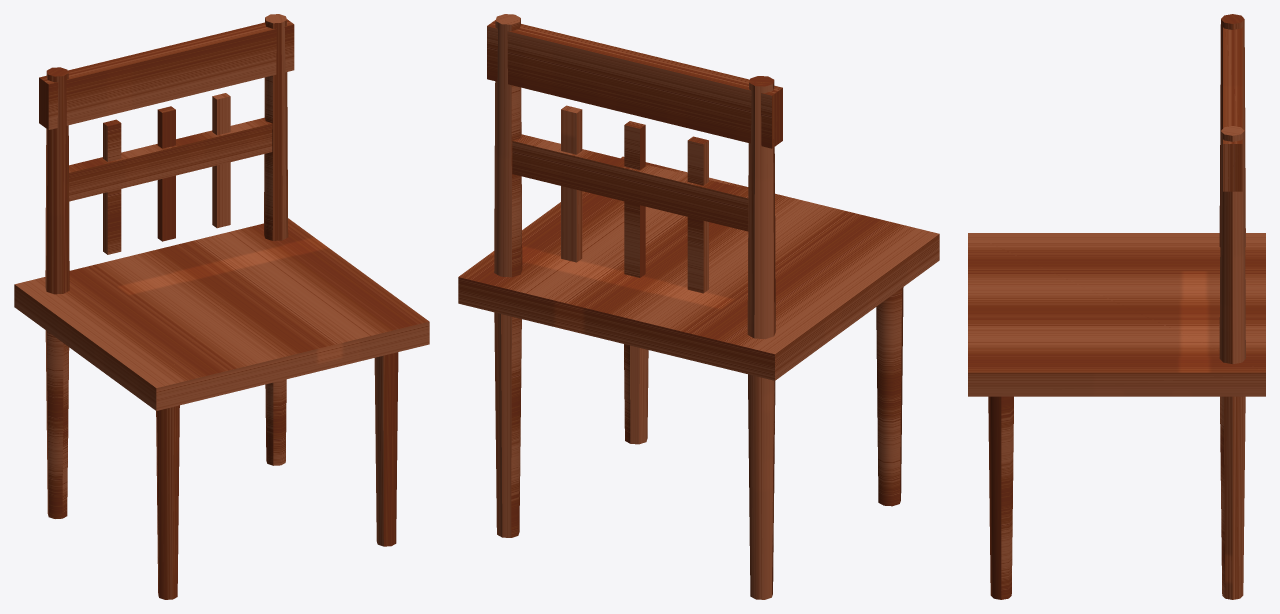
File: polygen_a_minimalist_modern_wood_5eaa40a4_processed.obj
The picture shows the model from 3 angles, left to right: view 1: azimuth 30°, elevation 25°; view 2: azimuth 150°, elevation 25°; view 3: azimuth 270°, elevation 25°; orthographic projection. The views are drawn at different scales.
Visible parts, largest first — view 1: polygen_a_minimalist_modern_wood_5eaa40a4_processed; view 2: polygen_a_minimalist_modern_wood_5eaa40a4_processed; view 3: polygen_a_minimalist_modern_wood_5eaa40a4_processed.
Boxes of the visible parts, bbox=[...] form: polygen_a_minimalist_modern_wood_5eaa40a4_processed: bbox=[14, 14, 429, 599]; polygen_a_minimalist_modern_wood_5eaa40a4_processed: bbox=[458, 14, 939, 599]; polygen_a_minimalist_modern_wood_5eaa40a4_processed: bbox=[968, 14, 1265, 599].
Bounding box in the file's own units: 1.29 × 2 × 1.16.
